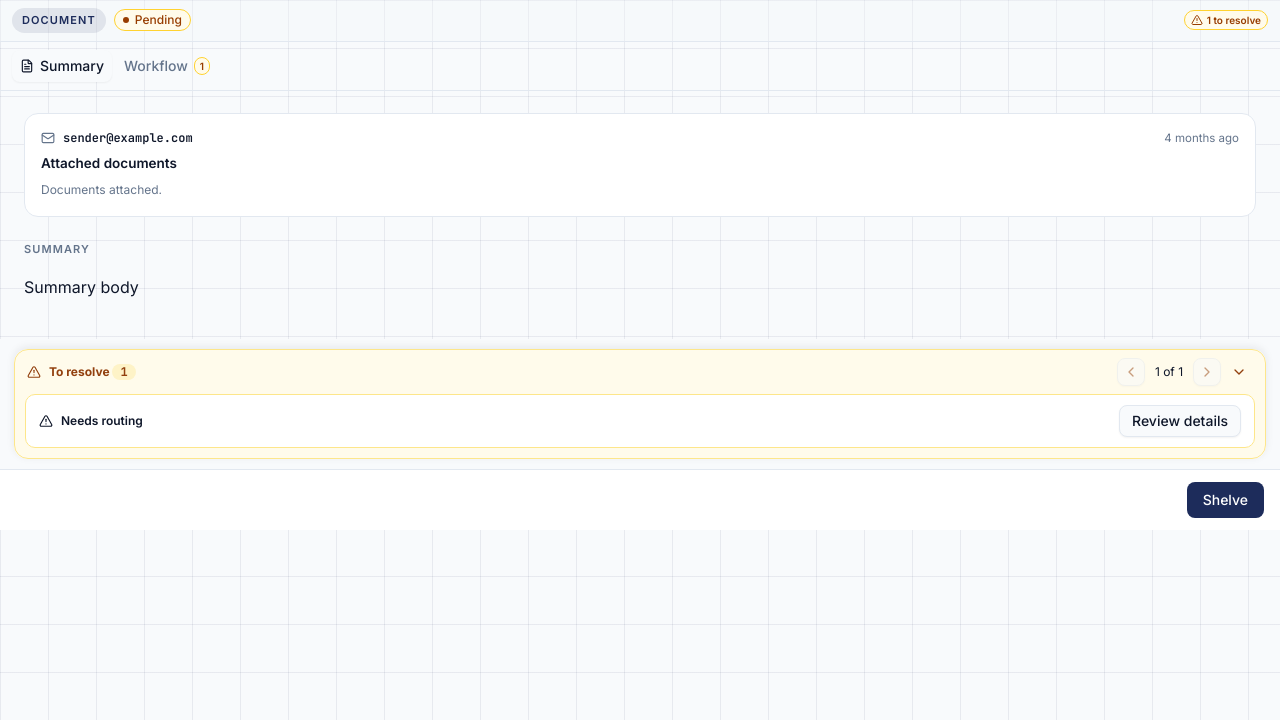
Test: DocumentPanelRenderer › renders each alert once in the docked tray, tabbed sections, and footer actions
This screenshot has width=1280, height=720.
Expected: the text "Needs routing" is shown once, [61,413,143,429]
Expected: the element with test id "document-resolve-tray" is shown, [0,339,1279,469]
Click the tab "Workflow 1".
click(167, 66)  # box [116,50,218,82]
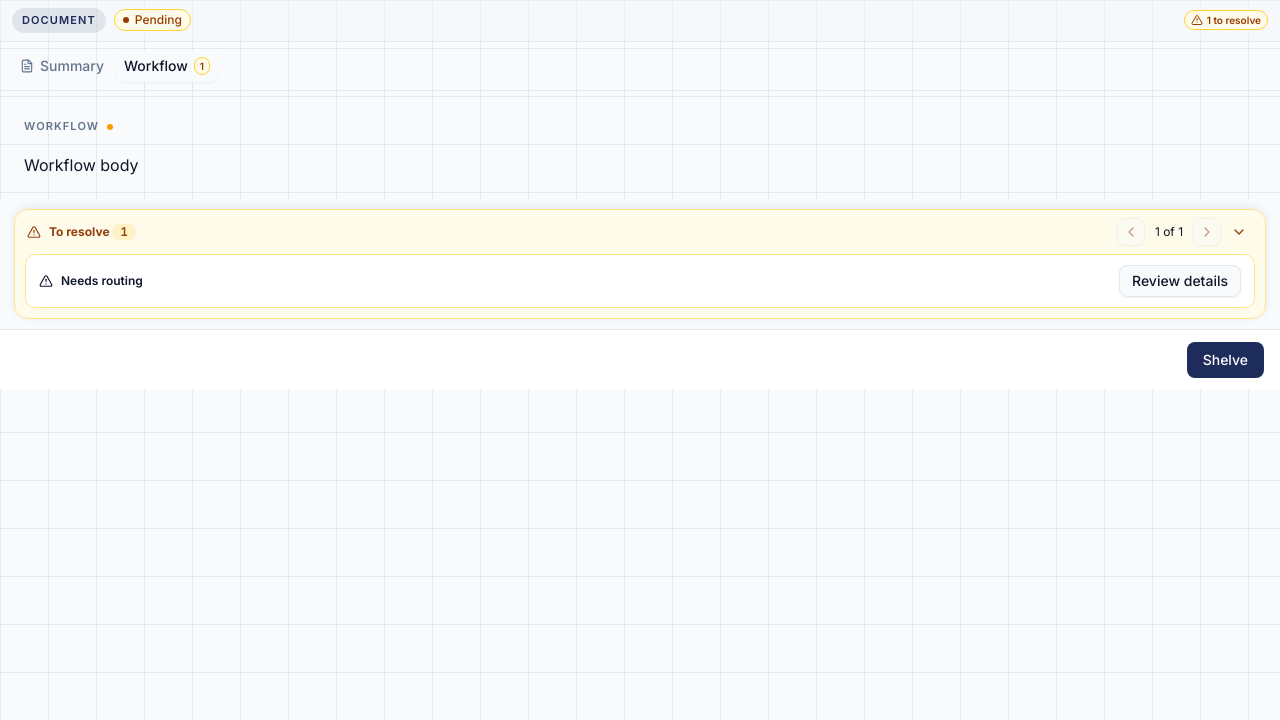
Expected: the text "Workflow body" is shown, [24,154,139,174]
Expected: the text "Summary body" is gone
Expected: the button "sender@example.com" is gone
